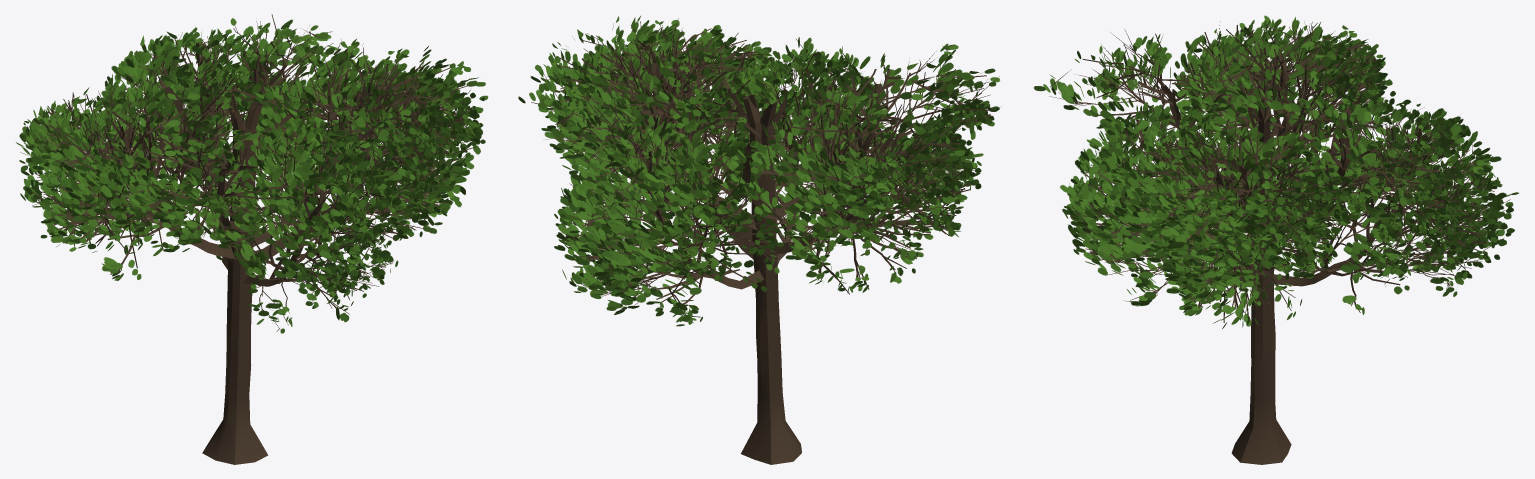
3 views of the same model, side by side, from view 1: azimuth 30°, elevation 25°; view 2: azimuth 150°, elevation 25°; view 3: azimuth 270°, elevation 25° (orthographic).
Visible parts, largest first — view 1: oak 01.001_trunk_Mat.001_0.127; view 2: oak 01.001_trunk_Mat.001_0.127; view 3: oak 01.001_trunk_Mat.001_0.127.
Part boxes in pixels (bbox=[...]): oak 01.001_trunk_Mat.001_0.127: bbox=[16, 14, 488, 464]; oak 01.001_trunk_Mat.001_0.127: bbox=[518, 16, 1001, 464]; oak 01.001_trunk_Mat.001_0.127: bbox=[1033, 15, 1518, 464].
Size of the model in its own units: 6.85 by 5.38 by 6.51.
2 materials, 1 textured.
